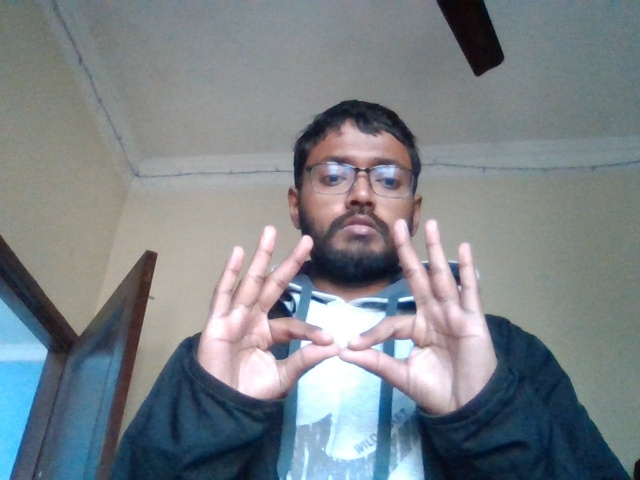family: (207, 224, 498, 410)
